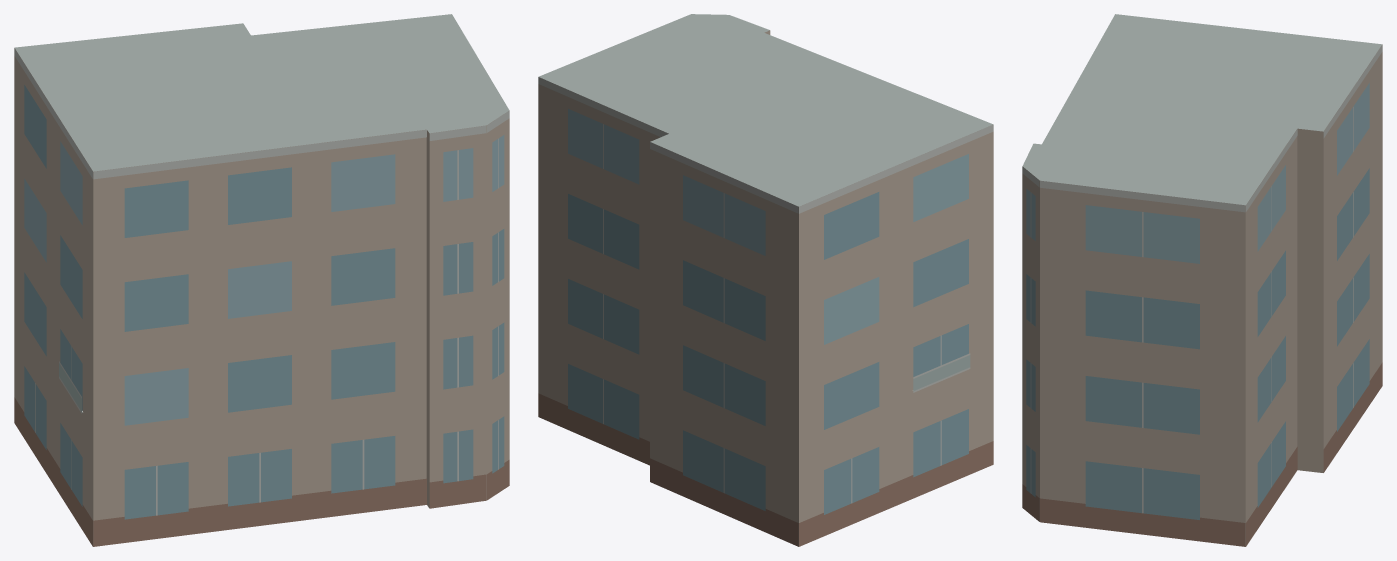
Rendered from survey-upis-32662828.glb.
3 renders of one model, left to right at view 1: azimuth 30°, elevation 25°; view 2: azimuth 150°, elevation 25°; view 3: azimuth 270°, elevation 25°, orthographic. The views are drawn at different scales.
Parts seen in each view (by area): view 1: survey-upis-32662828.tmp; view 2: survey-upis-32662828.tmp; view 3: survey-upis-32662828.tmp.
Boxes of the visible parts, x1,y1,x2,y2 form: survey-upis-32662828.tmp: (14, 14, 509, 546); survey-upis-32662828.tmp: (538, 14, 993, 546); survey-upis-32662828.tmp: (1022, 14, 1382, 546).
Size of the model in its own units: 14.06 by 11.7 by 11.19.
